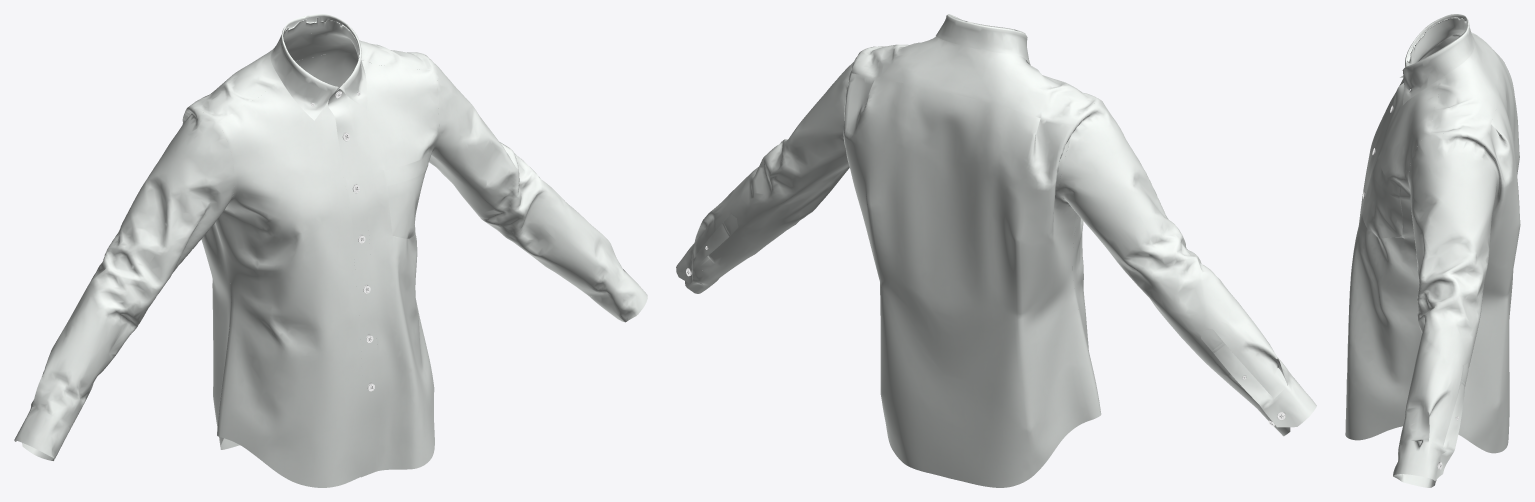
Rendered from shirt.glb.
3 renders of one model, left to right at view 1: azimuth 30°, elevation 25°; view 2: azimuth 150°, elevation 25°; view 3: azimuth 270°, elevation 25°, orthographic. The views are drawn at different scales.
Bounding box in the file's own units: 1.16 × 0.7717 × 0.3007.
Materials: 1 (1 with a texture image).
